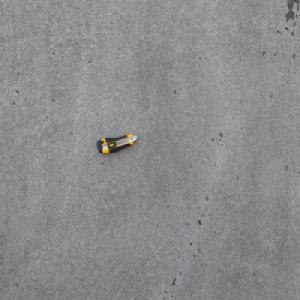Cutter: (96, 133, 137, 154)
